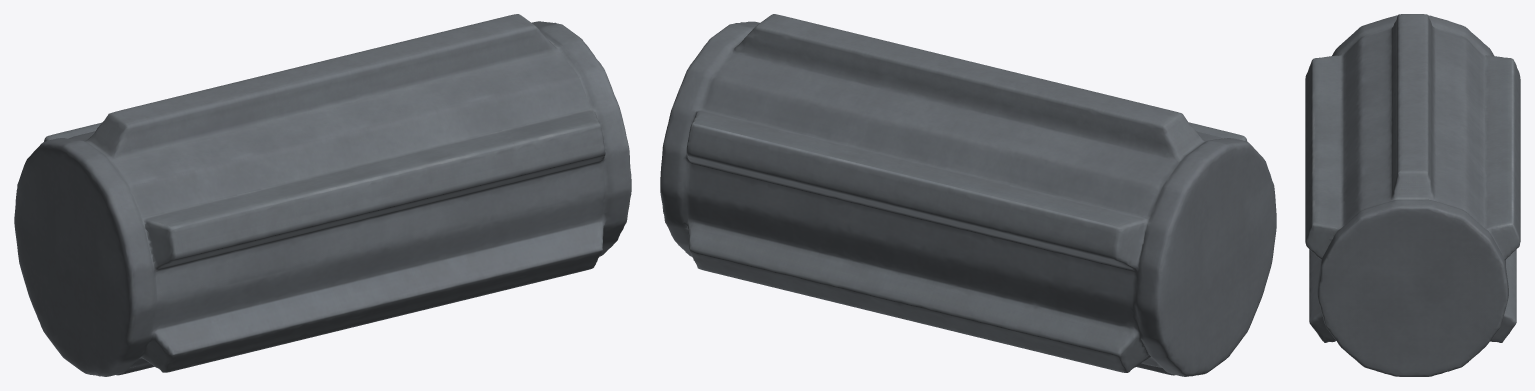
The model's file is raw.glb.
3 views of the same model, side by side, from view 1: azimuth 30°, elevation 25°; view 2: azimuth 150°, elevation 25°; view 3: azimuth 270°, elevation 25° (orthographic). The views are drawn at different scales.
Size of the model in its own units: 1.01 by 0.483 by 0.4741.
Materials: 1 (1 with a texture image).
